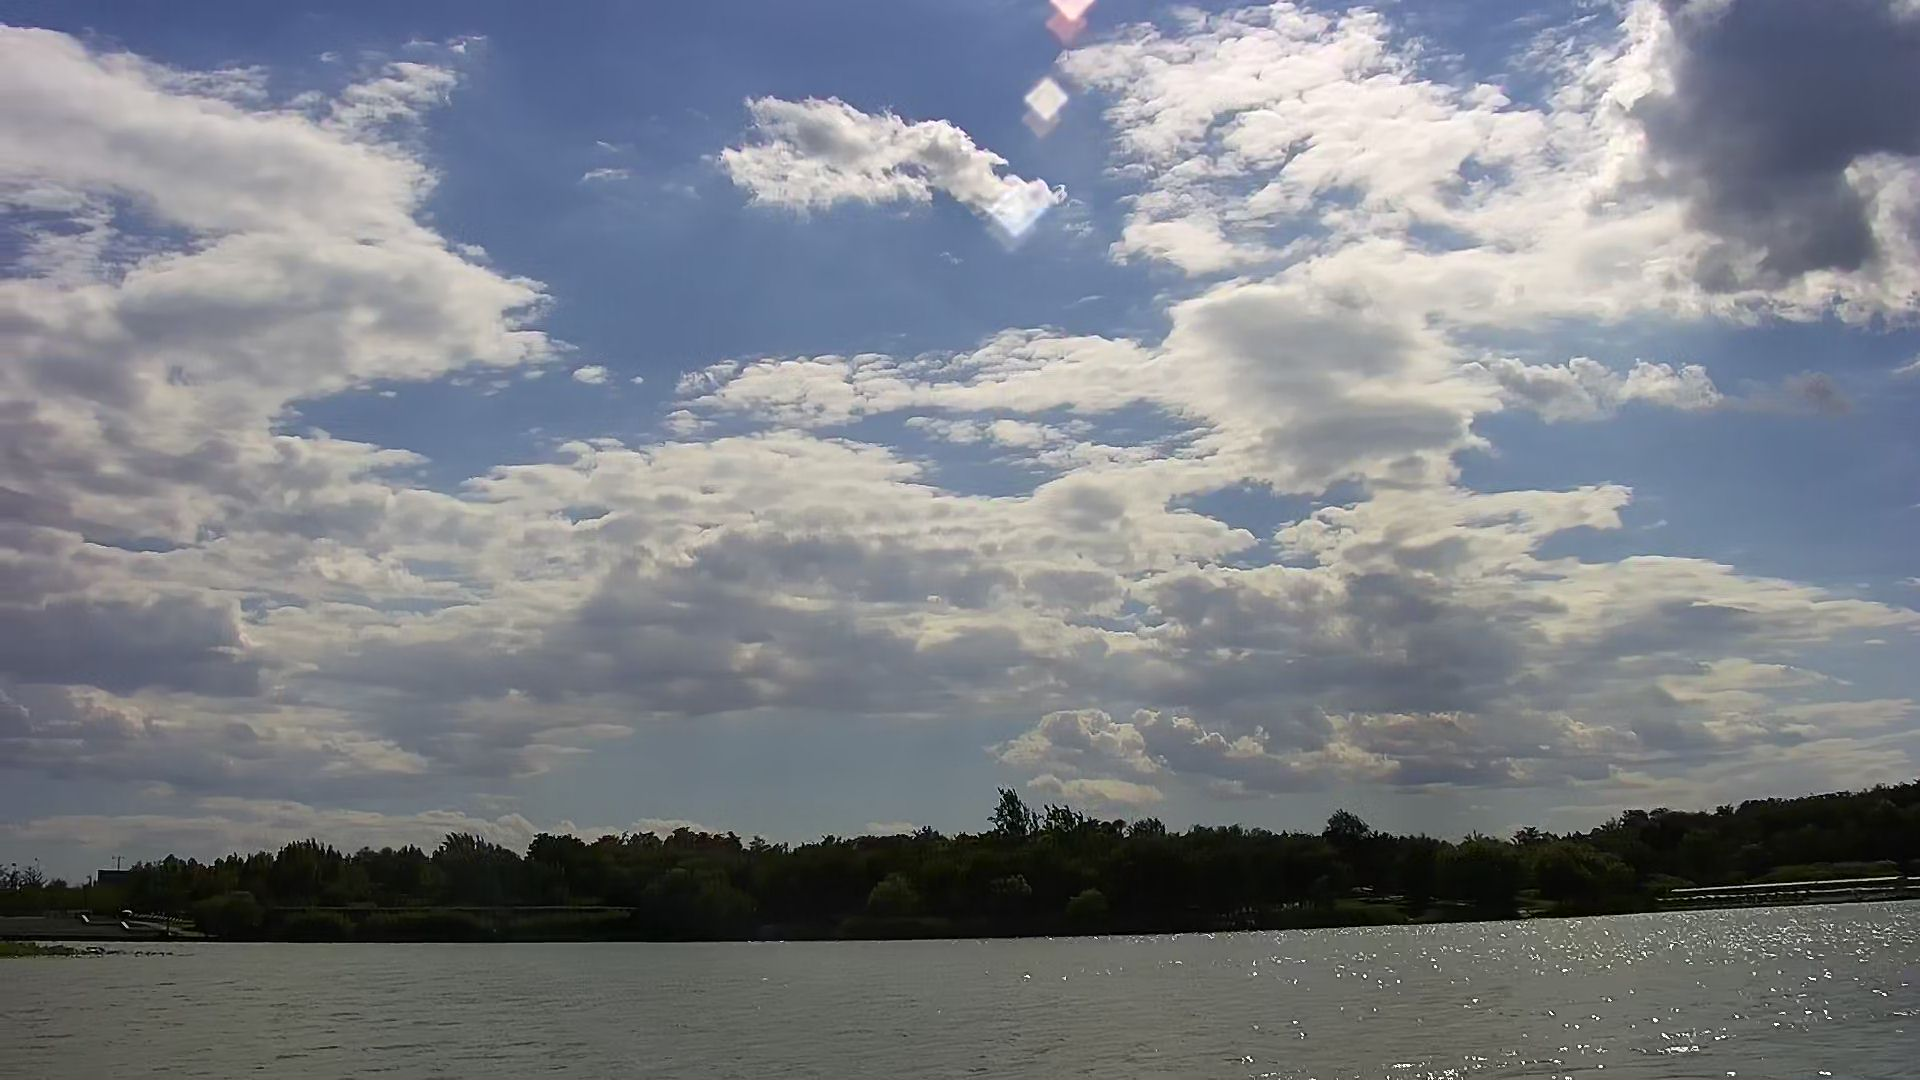harbor: (1635, 851, 1920, 913), (12, 901, 200, 948)
